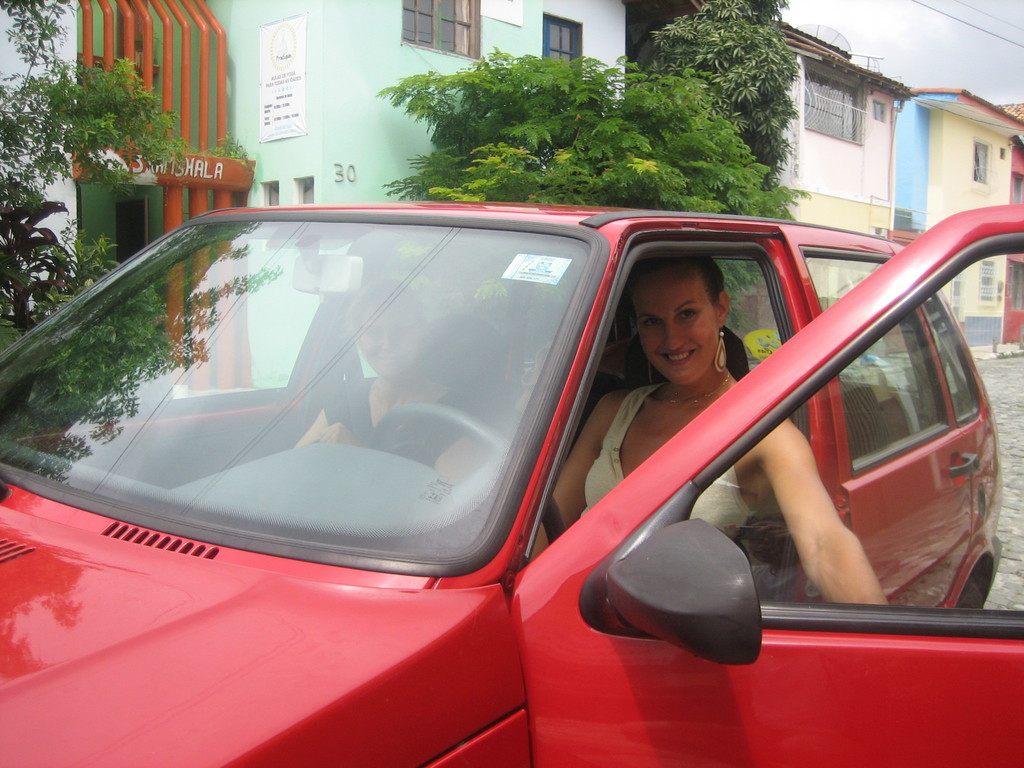Car: (60, 166, 981, 734)
